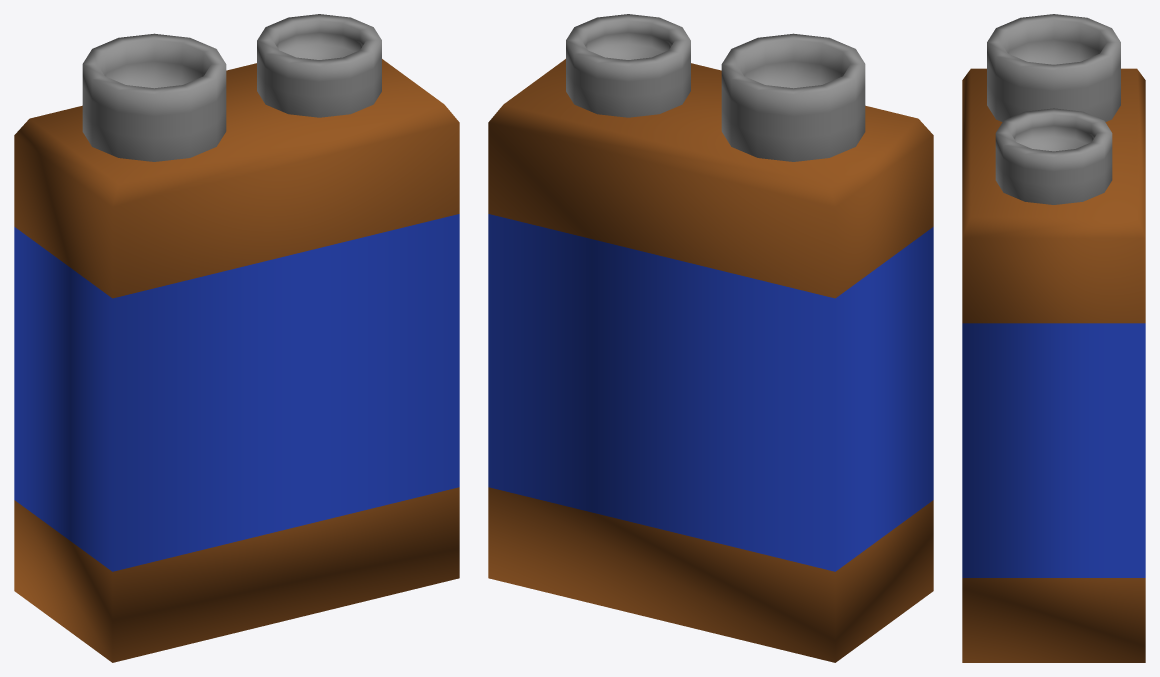
Rendered from battery.dae.
3 views of the same model, side by side, from view 1: azimuth 30°, elevation 25°; view 2: azimuth 150°, elevation 25°; view 3: azimuth 270°, elevation 25° (orthographic). The views are drawn at different scales.
Parts seen in each view (by area): view 1: Cube; view 2: Cube; view 3: Cube.
Boxes of the visible parts, x1,y1,x2,y2 form: Cube: (14, 14, 459, 662); Cube: (488, 14, 933, 662); Cube: (962, 14, 1145, 662).
Size of the model in its own units: 1.6 by 0.7827 by 2.37.
